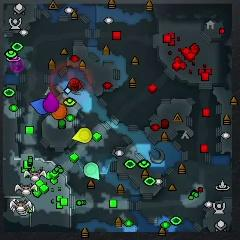Other: (10, 57, 24, 72)
p1: (29, 98, 49, 115)
p2: (83, 162, 100, 180)
p3: (44, 93, 59, 113)
p4: (73, 128, 93, 144)
p5: (52, 104, 68, 119)
